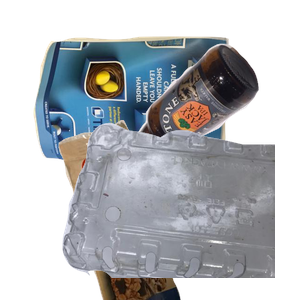glass: (120, 41, 300, 196)
paper: (31, 34, 252, 205)
plastic: (60, 120, 300, 300)
trash: (56, 120, 229, 300)
